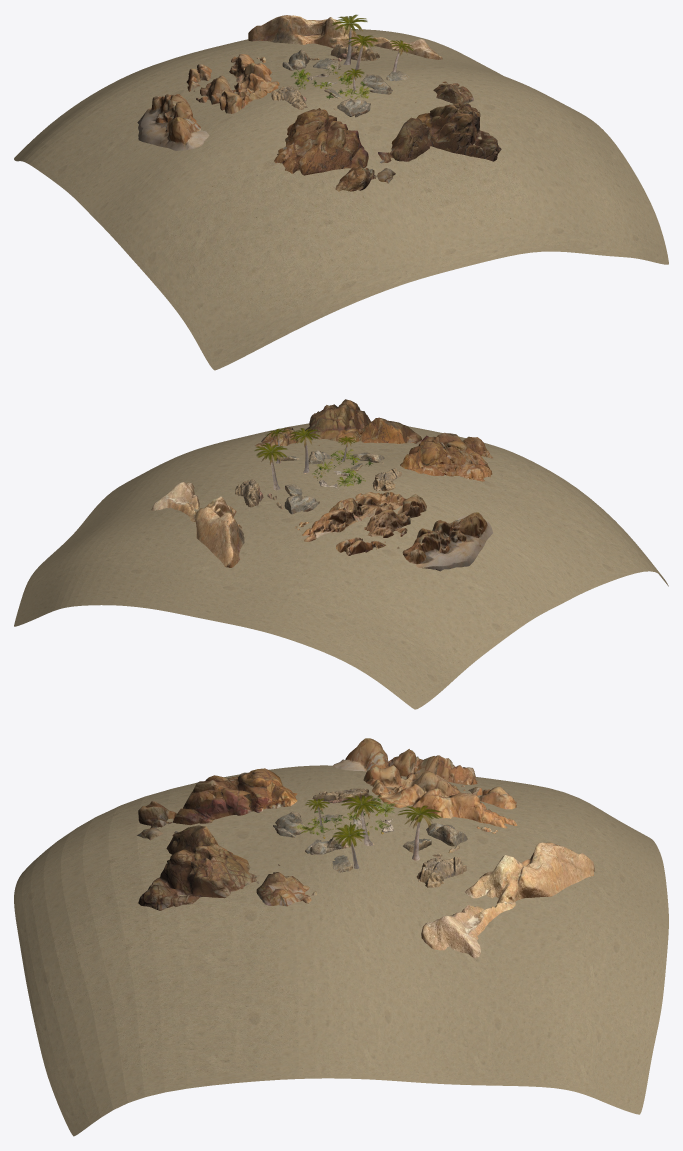
The model's file is island.glb.
3 renders of one model, top to bottom at view 1: azimuth 30°, elevation 25°; view 2: azimuth 150°, elevation 25°; view 3: azimuth 270°, elevation 25°, orthographic. The views are drawn at different scales.
Visible parts, largest first — view 1: Plane, Object_72, Object_64, Object_68; view 2: Plane, Object_72, Object_64, Object_68; view 3: Plane, Object_72, Object_64, Object_68.
Part boxes in pixels (box(x1,y1,x2,y2)): Plane: box(14, 29, 668, 370); Object_72: box(137, 15, 442, 150); Object_64: box(274, 81, 501, 191); Object_68: box(332, 14, 413, 92); Plane: box(14, 423, 668, 709); Object_72: box(151, 450, 492, 571); Object_64: box(255, 399, 493, 481); Object_68: box(254, 428, 356, 490); Plane: box(14, 765, 668, 1136); Object_72: box(273, 738, 594, 958); Object_64: box(137, 768, 316, 910); Object_68: box(305, 795, 441, 868).
Bounding box in the file's own units: 84.88 × 30.66 × 81.01.
10 materials, 10 textured.
